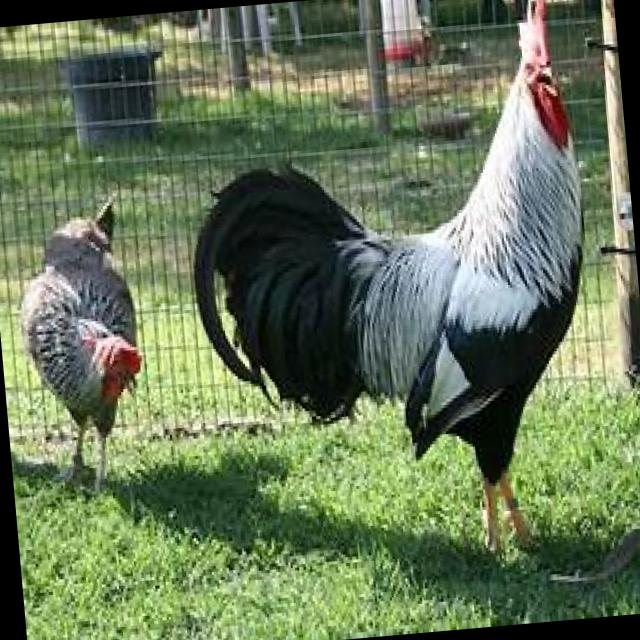chicken: (171, 0, 616, 582), (10, 195, 155, 499)
